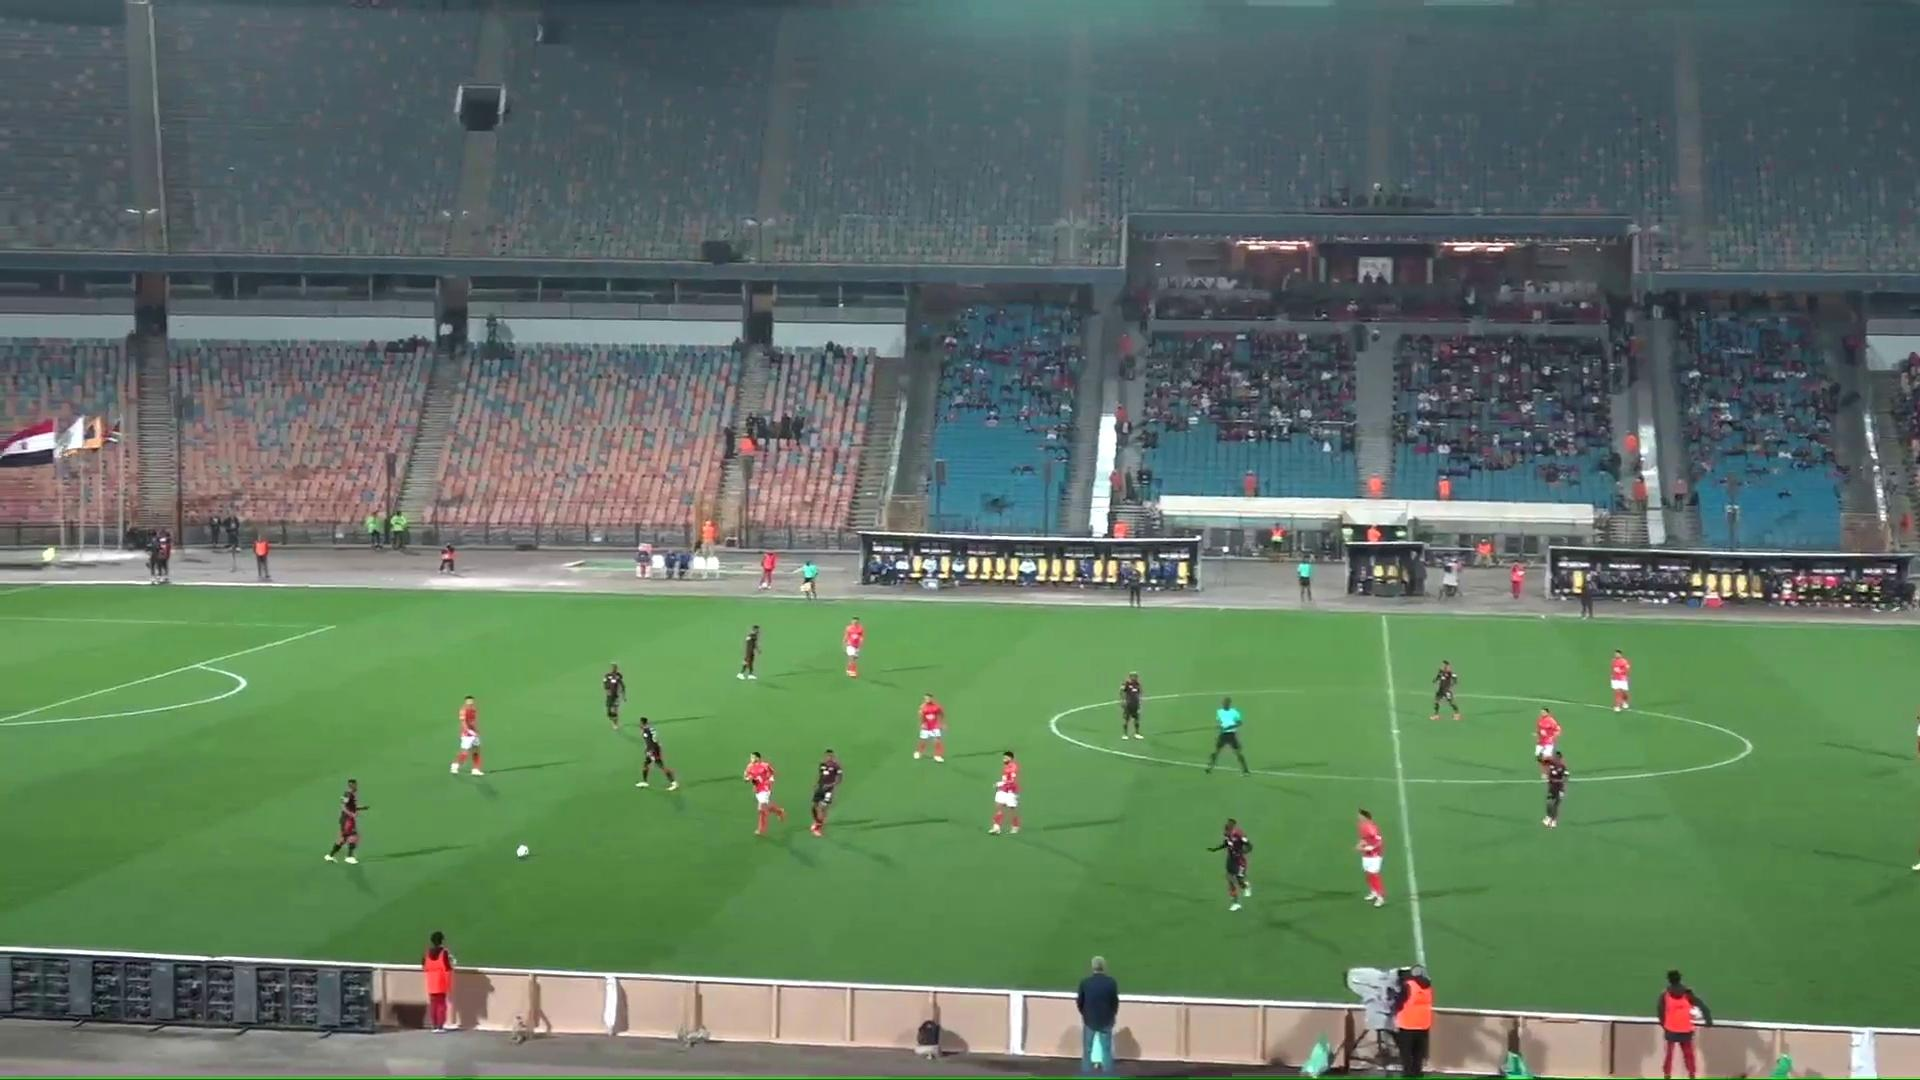Ball: (513, 843, 531, 861)
Refree: (1207, 696, 1250, 774), (796, 556, 819, 599), (1296, 554, 1313, 605)
Team1: (742, 752, 786, 835), (1354, 808, 1386, 906), (988, 750, 1021, 833), (448, 696, 483, 775), (913, 694, 945, 762), (1534, 709, 1563, 769), (840, 617, 866, 678), (1609, 650, 1631, 711)
Team2: (1207, 820, 1253, 910), (324, 779, 367, 862), (636, 716, 678, 790), (808, 749, 843, 836), (1539, 753, 1569, 828), (1429, 659, 1462, 719), (600, 662, 626, 729), (1118, 673, 1145, 738), (735, 626, 761, 680)
